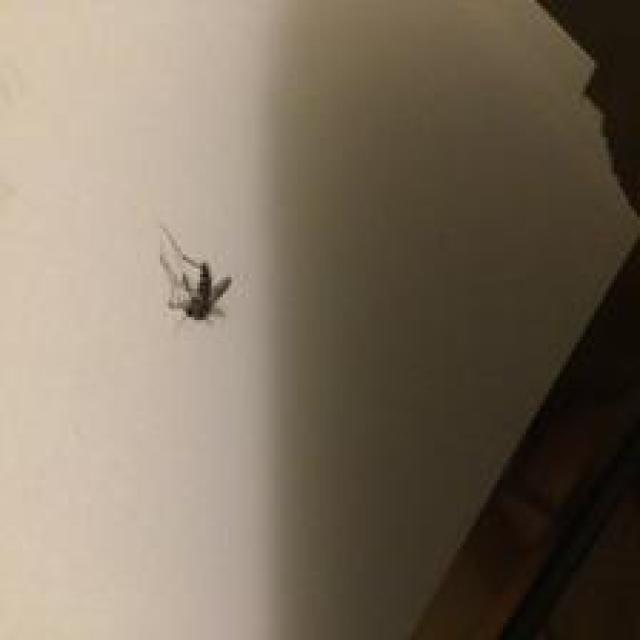Aedes albopictus: (157, 224, 234, 327)
